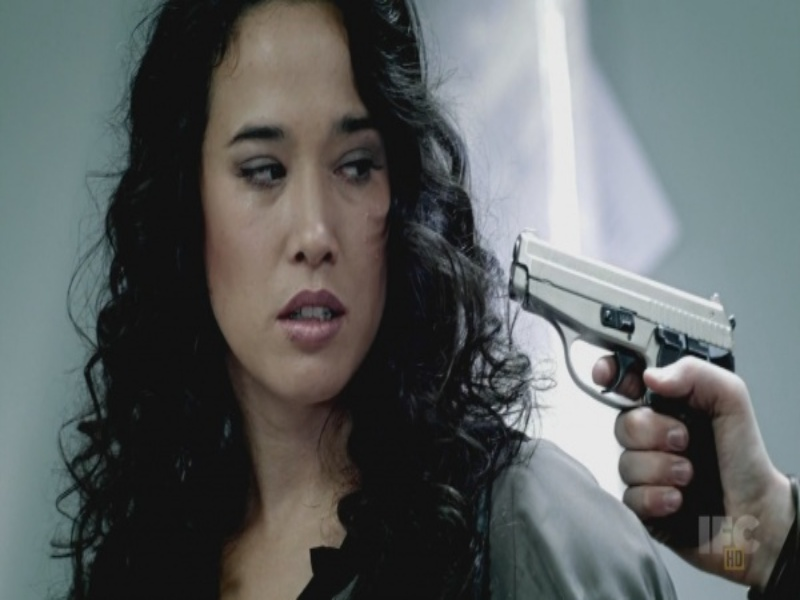person: (60, 2, 676, 597)
weapon: (507, 237, 729, 534)
